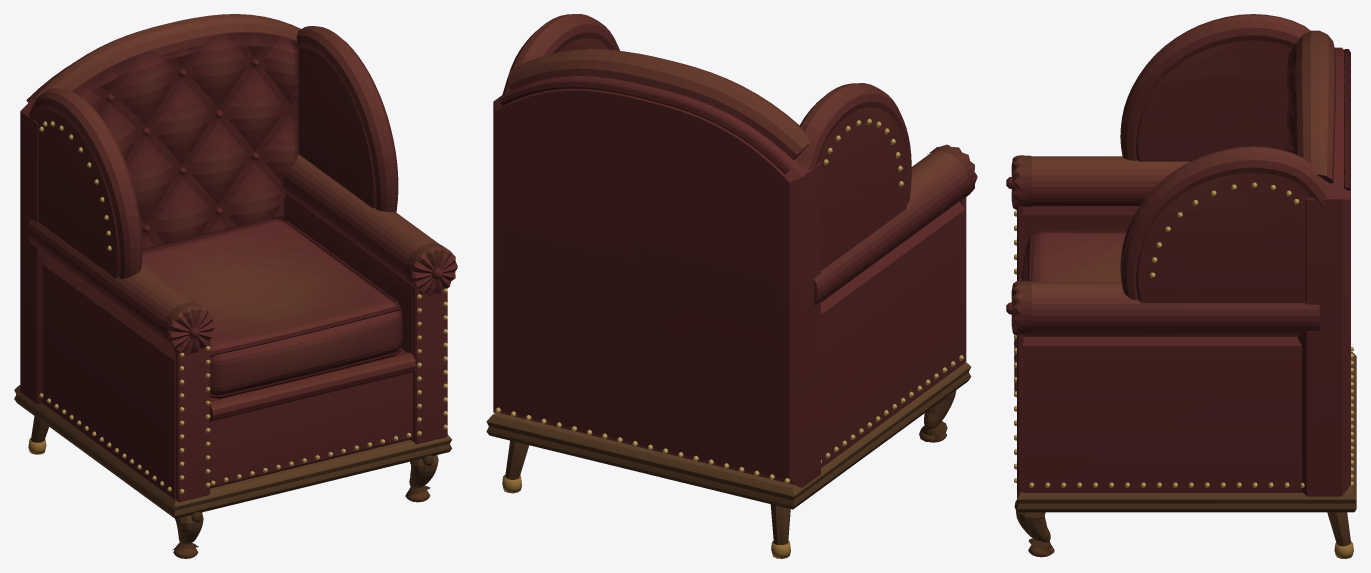
File: reading_armchair.glb
The picture shows the model from 3 angles, left to right: view 1: azimuth 30°, elevation 25°; view 2: azimuth 150°, elevation 25°; view 3: azimuth 270°, elevation 25°; orthographic projection. The views are drawn at different scales.
Parts seen in each view (by area): view 1: reading_armchair; view 2: reading_armchair; view 3: reading_armchair.
Part boxes in pixels (bbox=[...]): reading_armchair: bbox=[14, 14, 457, 558]; reading_armchair: bbox=[486, 14, 977, 558]; reading_armchair: bbox=[1006, 14, 1356, 558].
Bounding box in the file's own units: 0.7948 × 1.07 × 0.7901.
